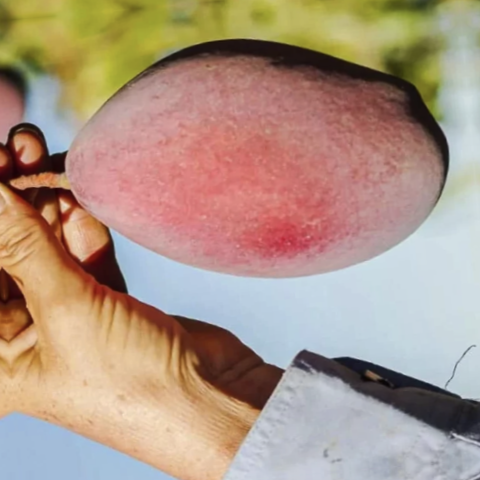mango: (37, 0, 465, 318)
